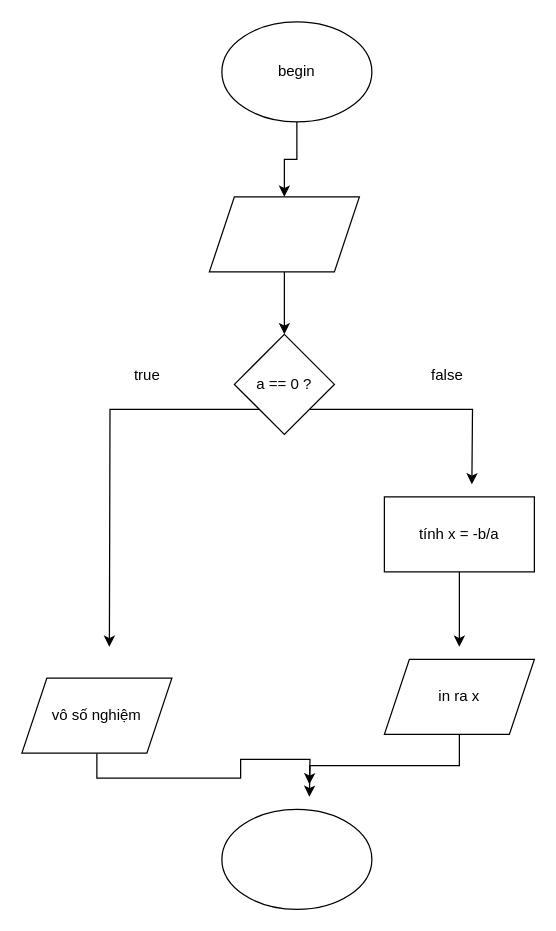
The diagram is 556 pixels wide and 931 high, and some of its shapes have lost their labels. The shapes that lost their labels are listed below. From the top down, each one's box as (x1, y1, x2, y2) in pixels, then its label:
(208, 196, 359, 272): nhập a và b
(221, 808, 372, 909): end
